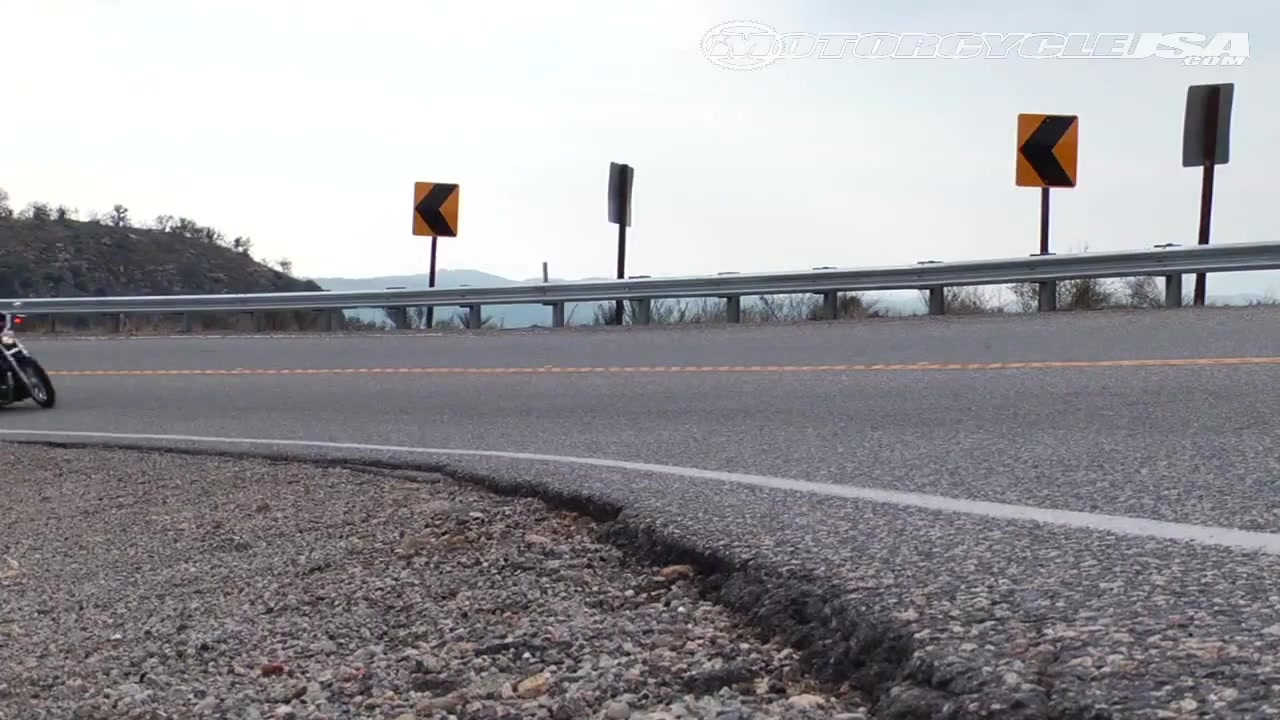motorbike: (1, 310, 62, 418)
